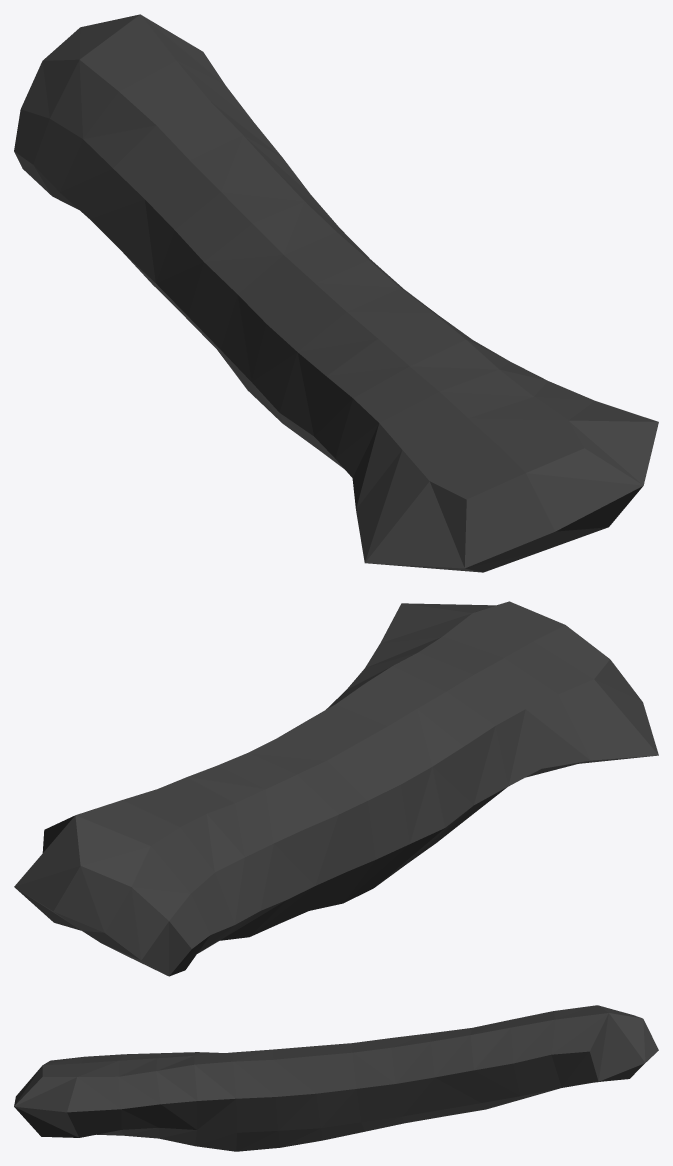
3 views of the same model, one above another, from view 1: azimuth 30°, elevation 25°; view 2: azimuth 150°, elevation 25°; view 3: azimuth 270°, elevation 25° (orthographic). The views are drawn at different scales.
Parts seen in each view (by area): view 1: SB_8; view 2: SB_8; view 3: SB_8.
Boxes of the visible parts, x1,y1,x2,y2 form: SB_8: (14,14,658,572); SB_8: (14,601,658,976); SB_8: (14,1005,658,1151).
Size of the model in its own units: 0.7435 by 0.5763 by 2.34.
1 material, 1 textured.
